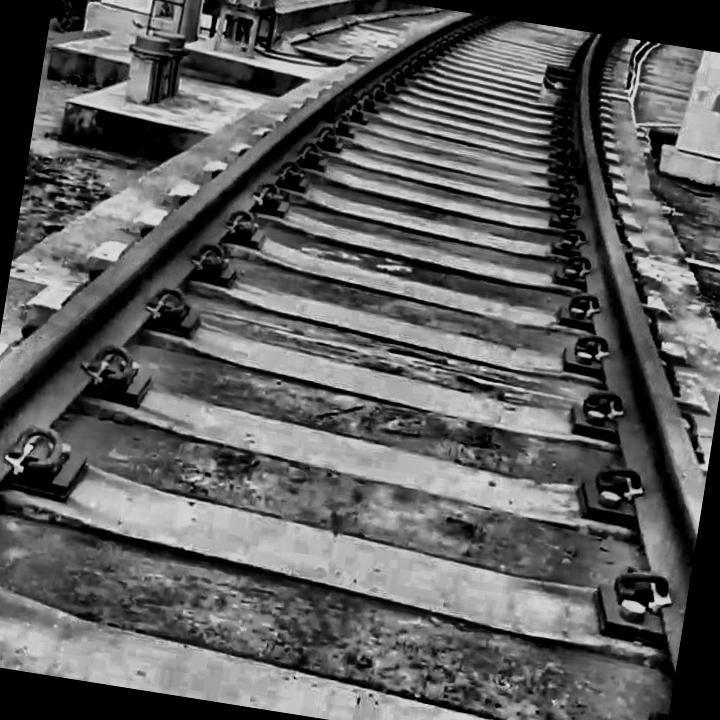Trash: (531, 53, 585, 112)
